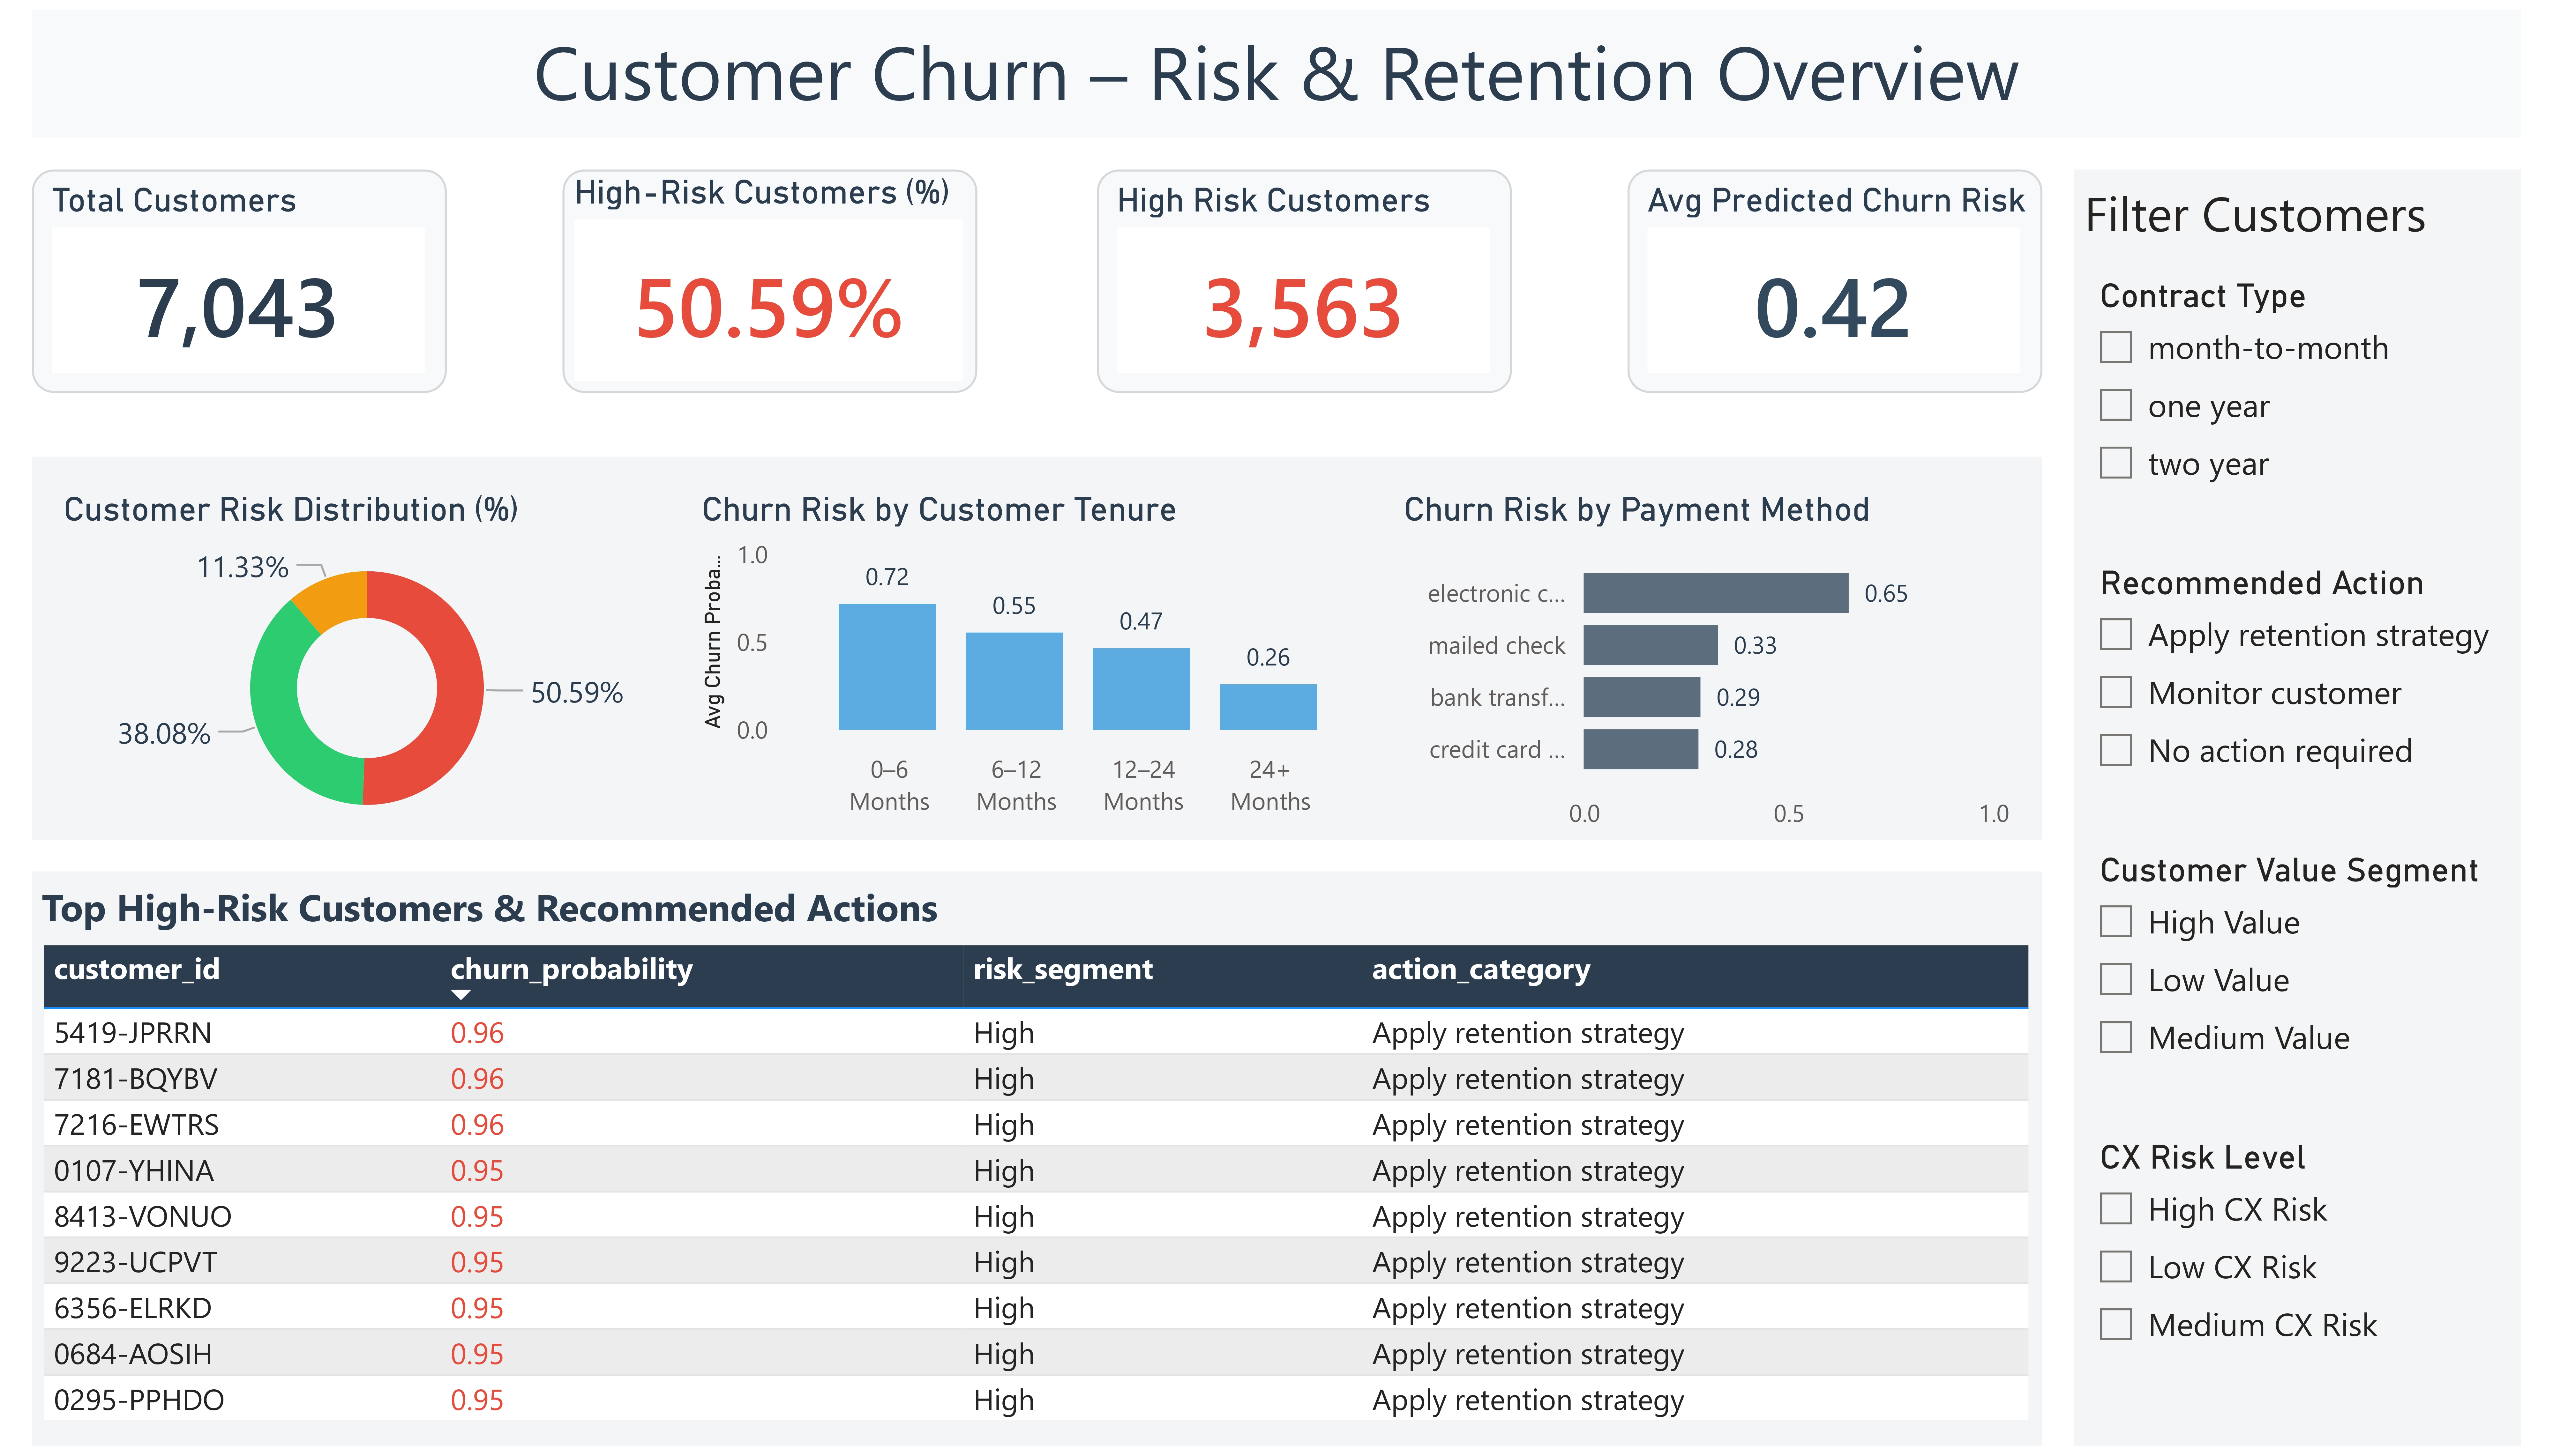

Layout of this report page (visuals, bound fields, positions):
{"tool":"powerbi","page":{"name":"Customer Churn – Risk & Retention Dashboard","canvas":[1280,720],"ordinal":0},"visuals":[{"type":"textbox","box":[16,0,1248,64],"z":0},{"type":"cardVisual","title":"Total Customers","fields":{"Data":["churn_dashboard_dataset.Total Customers"]},"box":[16,80,208,112],"z":1000},{"type":"cardVisual","title":"High-Risk Customers (%)","fields":{"Data":["churn_dashboard_dataset.Churn Rate (%)"]},"box":[282,80,208,112],"z":2000},{"type":"cardVisual","title":"High Risk Customers","fields":{"Data":["churn_dashboard_dataset.High Risk Customers"]},"box":[550,80,208,112],"z":3000},{"type":"cardVisual","title":"Avg Predicted Churn Risk","fields":{"Data":["churn_dashboard_dataset.Avg Churn Probability"]},"box":[816,80,208,112],"z":4000},{"type":"shape","box":[16,224,1008,192],"z":5000},{"type":"donutChart","title":"Customer Risk Distribution (%)","fields":{"Category":["churn_dashboard_dataset.risk_segment"],"Y":["CountNonNull(churn_dashboard_dataset.customer_id)"]},"box":[32,240,304,176],"z":6000},{"type":"clusteredColumnChart","title":"Churn Risk by Customer Tenure","fields":{"Y":["churn_dashboard_dataset.Avg Churn Probability"],"Category":["churn_dashboard_dataset.Tenure Bucket"]},"box":[352,240,336,176],"z":7000},{"type":"shape","box":[16,432,1008,288],"z":7500},{"type":"barChart","title":"Churn Risk by Payment Method","fields":{"Category":["churn_dashboard_dataset.payment_method"],"Y":["Avg(churn_dashboard_dataset.churn_probability)"]},"box":[704,240,320,176],"z":8000},{"type":"tableEx","fields":{"Values":["churn_dashboard_dataset.customer_id","churn_dashboard_dataset.churn_probability","churn_dashboard_dataset.risk_segment","churn_dashboard_dataset.action_category"]},"box":[16,464,1008,256],"z":9000},{"type":"textbox","box":[16,432,512,35],"z":10000},{"type":"shape","box":[1040,80,224,640],"z":11000},{"type":"slicer","title":"Contract Type","fields":{"Values":["churn_dashboard_dataset.contract_type"]},"box":[1040,128,240,128],"z":12000},{"type":"slicer","fields":{"Values":["churn_dashboard_dataset.action_category"]},"box":[1040,272,240,128],"z":13000},{"type":"slicer","fields":{"Values":["churn_dashboard_dataset.CX Risk Level"]},"box":[1040,560,240,144],"z":14000},{"type":"textbox","box":[1040,80,240,48],"z":15000},{"type":"slicer","fields":{"Values":["churn_dashboard_dataset.Customer Value Segment"]},"box":[1040,416,240,128],"z":16000}]}

Visuals, with their boxes in screenshot pixels (x1, y1, x2, y2), scaled from the page's 1280x720 canvas onto the 2553x1456 screenshot:
textbox: Rect(32, 0, 2521, 130)
"Total Customers" cardVisual: Rect(32, 162, 447, 388)
"High-Risk Customers (%)" cardVisual: Rect(562, 162, 977, 388)
"High Risk Customers" cardVisual: Rect(1097, 162, 1512, 388)
"Avg Predicted Churn Risk" cardVisual: Rect(1628, 162, 2042, 388)
shape: Rect(32, 453, 2042, 841)
"Customer Risk Distribution (%)" donutChart: Rect(64, 485, 670, 841)
"Churn Risk by Customer Tenure" clusteredColumnChart: Rect(702, 485, 1372, 841)
shape: Rect(32, 873, 2042, 1456)
"Churn Risk by Payment Method" barChart: Rect(1404, 485, 2042, 841)
tableEx - churn_dashboard_dataset.customer_id x churn_dashboard_dataset.churn_probability: Rect(32, 938, 2042, 1456)
textbox: Rect(32, 873, 1053, 944)
shape: Rect(2074, 162, 2521, 1456)
"Contract Type" slicer: Rect(2074, 259, 2553, 518)
slicer - churn_dashboard_dataset.action_category: Rect(2074, 550, 2553, 809)
slicer - churn_dashboard_dataset.CX Risk Level: Rect(2074, 1133, 2553, 1424)
textbox: Rect(2074, 162, 2553, 259)
slicer - churn_dashboard_dataset.Customer Value Segment: Rect(2074, 841, 2553, 1100)
